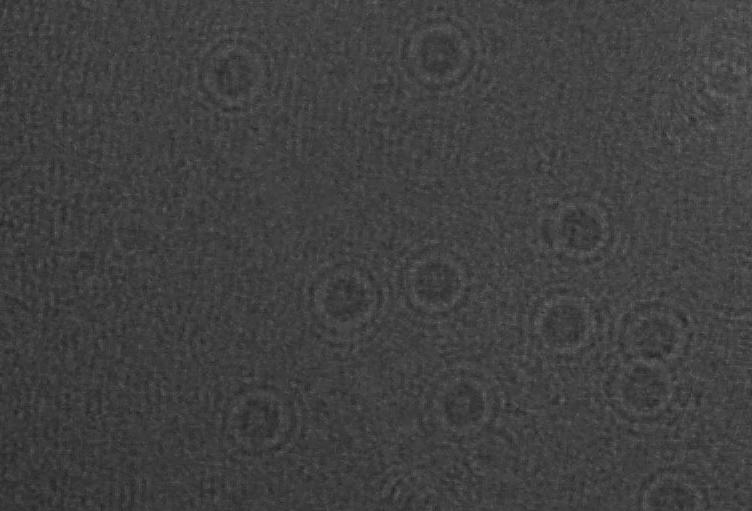bead: (204, 365, 306, 469), (401, 358, 509, 449), (386, 236, 488, 329), (182, 30, 283, 123), (386, 8, 487, 101), (293, 252, 385, 351), (514, 278, 612, 360), (536, 185, 627, 271), (605, 298, 705, 373), (600, 358, 696, 433), (625, 458, 720, 511)
